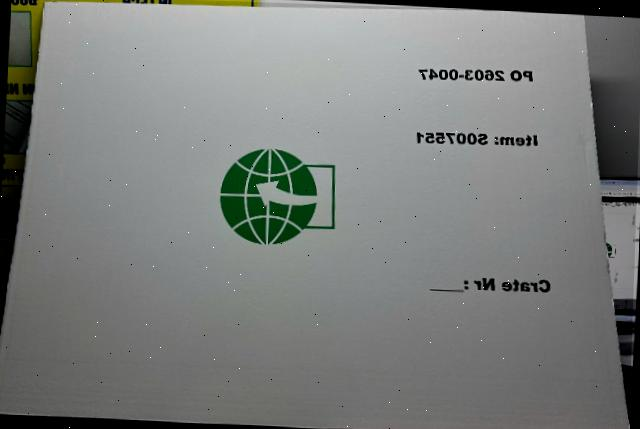box: (0, 1, 629, 429)
